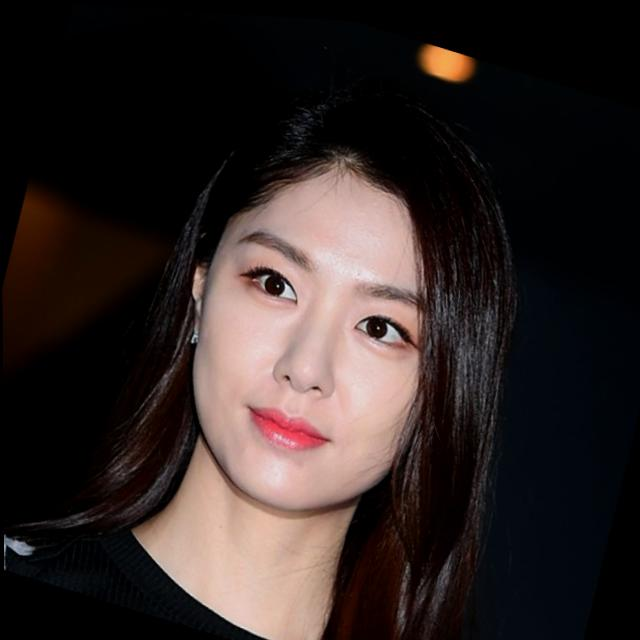face: (160, 126, 493, 552)
